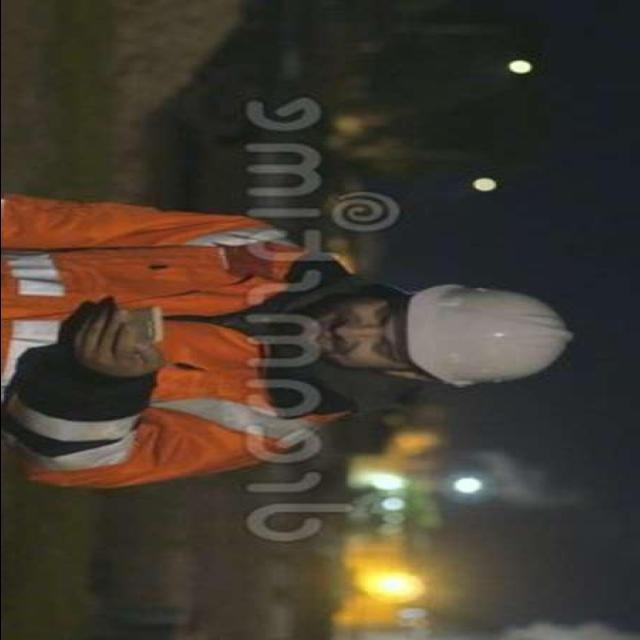helmet: (388, 272, 570, 404)
jacket: (0, 190, 349, 498)
